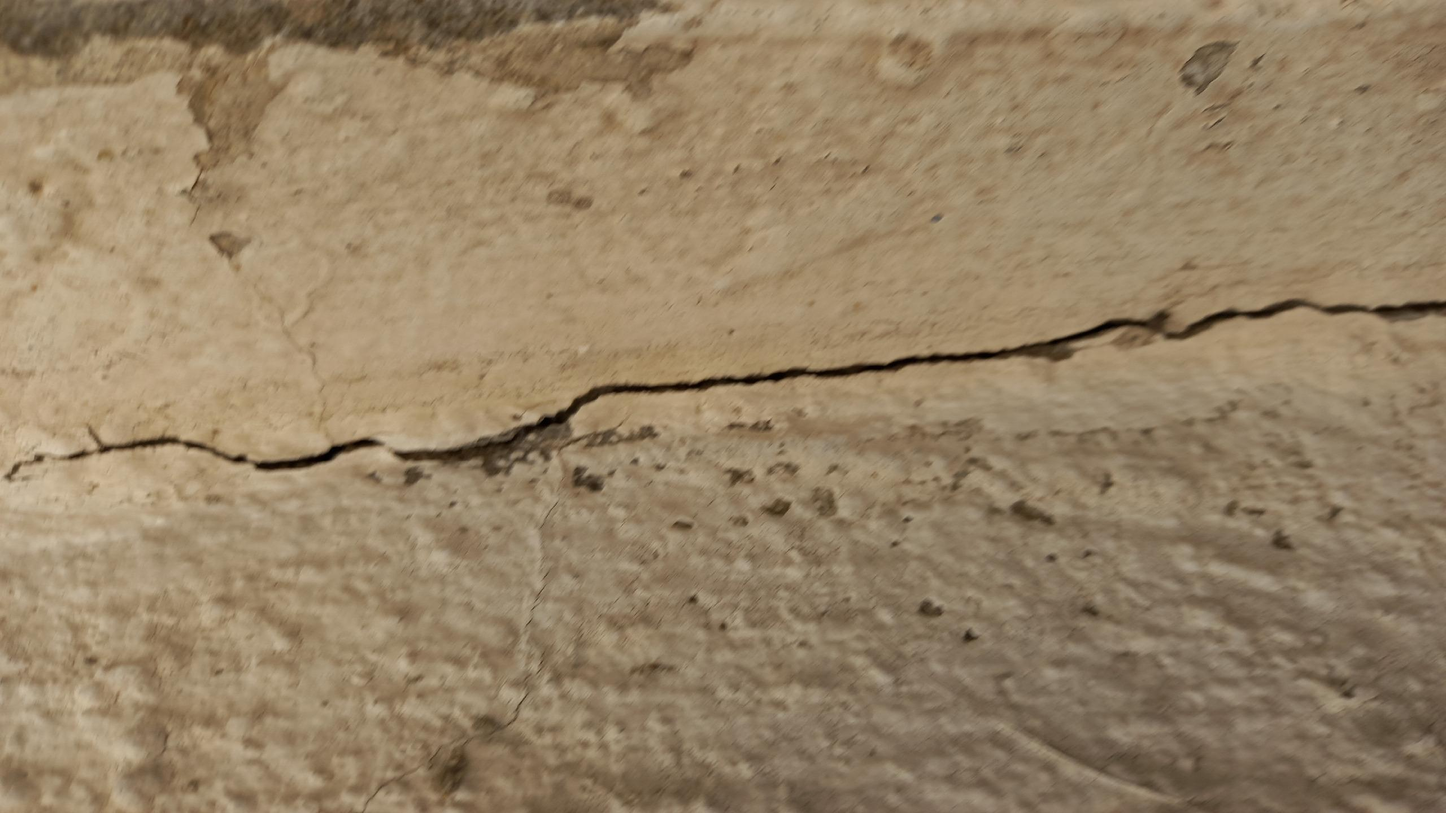crack: (7, 297, 1445, 477)
